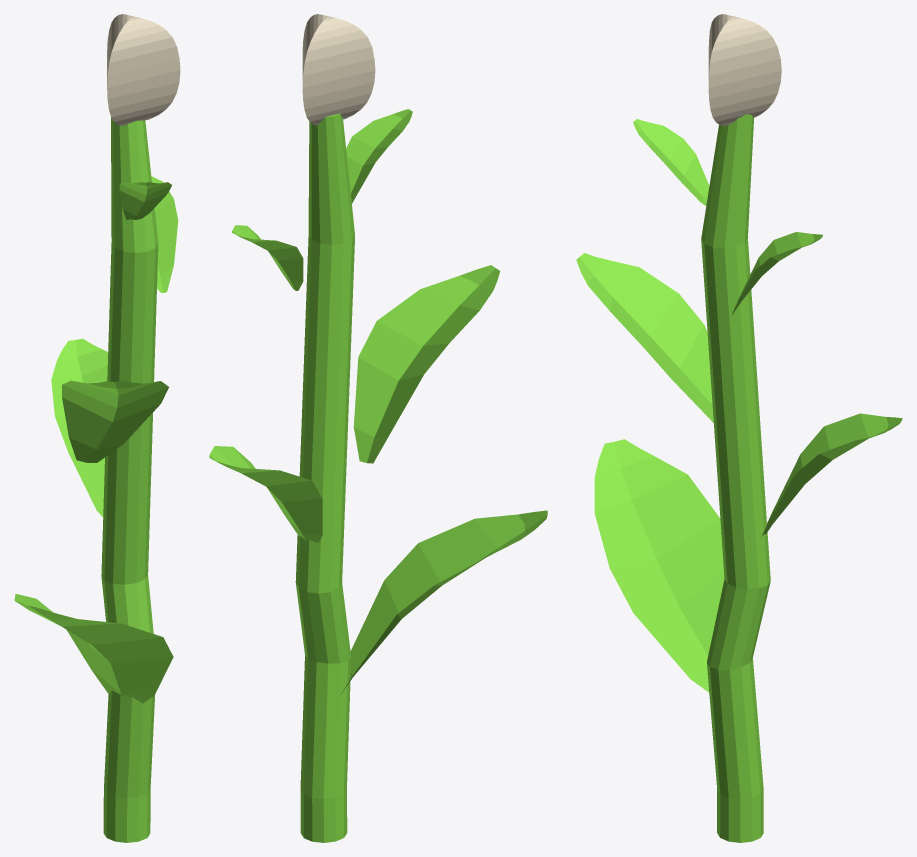
Rendered from stage2.fbx.
3 renders of one model, left to right at view 1: azimuth 30°, elevation 25°; view 2: azimuth 150°, elevation 25°; view 3: azimuth 270°, elevation 25°, orthographic.
Parts seen in each view (by area): view 1: Sphere.002; view 2: Sphere.002; view 3: Sphere.002.
Part boxes in pixels (x1,y1,x2,y2): Sphere.002: (14,14,180,842); Sphere.002: (209,14,547,842); Sphere.002: (576,14,902,842).
Size of the model in its own units: 52.06 by 178 by 64.55.
